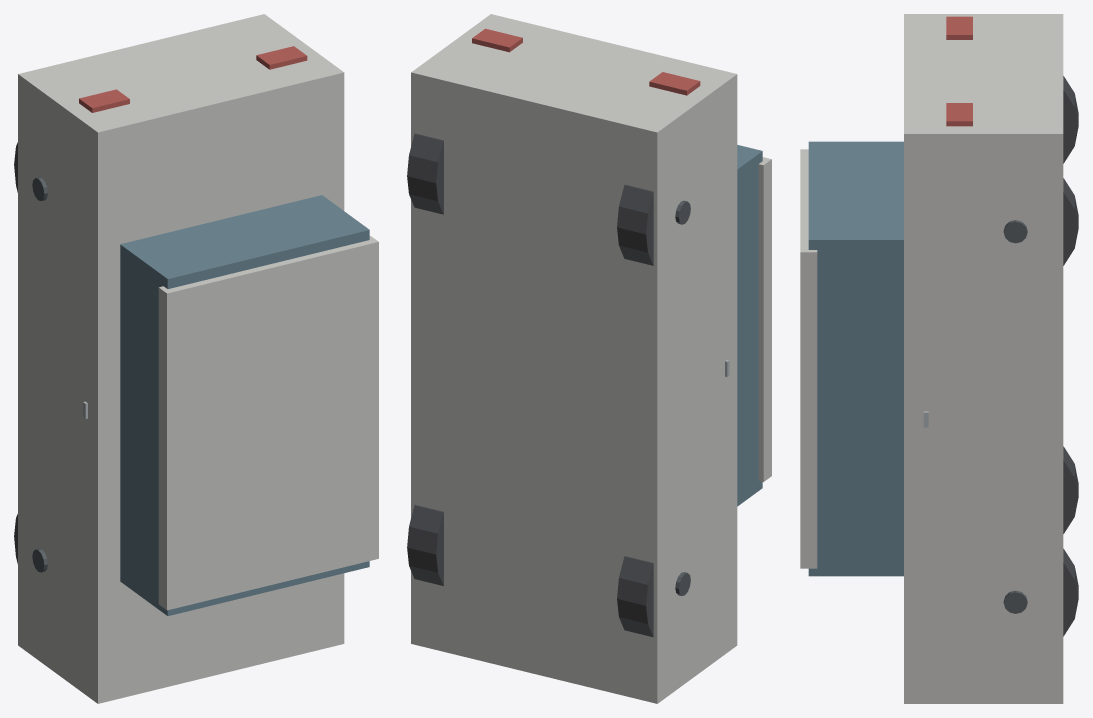
Rendered from compact_suv.glb.
The picture shows the model from 3 angles, left to right: view 1: azimuth 30°, elevation 25°; view 2: azimuth 150°, elevation 25°; view 3: azimuth 270°, elevation 25°; orthographic projection.
Visible parts, largest first — view 1: 0000_Car_body, 0003_Roof, 0002_Cabin_glass, 0009_Tail_lamp, 0007_Tail_lamp; view 2: 0000_Car_body, 0002_Cabin_glass, 0003_Roof, 0012_Wheel_tire, 0018_Wheel_tire, 0015_Wheel_tire, 0021_Wheel_tire, 0007_Tail_lamp, 0009_Tail_lamp; view 3: 0000_Car_body, 0002_Cabin_glass, 0003_Roof, 0015_Wheel_tire, 0012_Wheel_tire, 0021_Wheel_tire, 0018_Wheel_tire, 0007_Tail_lamp, 0009_Tail_lamp, 0017_Wheel_hub, 0023_Wheel_hub.
Boxes of the visible parts, x1,y1,x2,y2 form: 0000_Car_body: (18, 14, 344, 703); 0003_Roof: (158, 235, 378, 610); 0002_Cabin_glass: (120, 195, 369, 615); 0009_Tail_lamp: (256, 46, 307, 69); 0007_Tail_lamp: (79, 89, 129, 112); 0000_Car_body: (411, 14, 737, 703); 0002_Cabin_glass: (737, 145, 762, 506); 0003_Roof: (758, 157, 771, 482); 0012_Wheel_tire: (617, 556, 653, 637); 0018_Wheel_tire: (617, 184, 653, 265); 0015_Wheel_tire: (407, 505, 443, 586); 0021_Wheel_tire: (407, 133, 443, 214); 0007_Tail_lamp: (649, 72, 700, 95); 0009_Tail_lamp: (472, 28, 522, 52); 0000_Car_body: (904, 14, 1063, 703); 0002_Cabin_glass: (808, 141, 903, 576); 0003_Roof: (800, 149, 817, 568); 0015_Wheel_tire: (1063, 548, 1078, 636); 0012_Wheel_tire: (1063, 446, 1078, 533); 0021_Wheel_tire: (1063, 178, 1078, 265); 0018_Wheel_tire: (1063, 76, 1078, 163); 0007_Tail_lamp: (946, 16, 972, 39); 0009_Tail_lamp: (946, 103, 972, 126); 0017_Wheel_hub: (1003, 590, 1027, 613); 0023_Wheel_hub: (1003, 220, 1027, 243).
Size of the model in its own units: 2.09 by 4.6 by 1.99.
